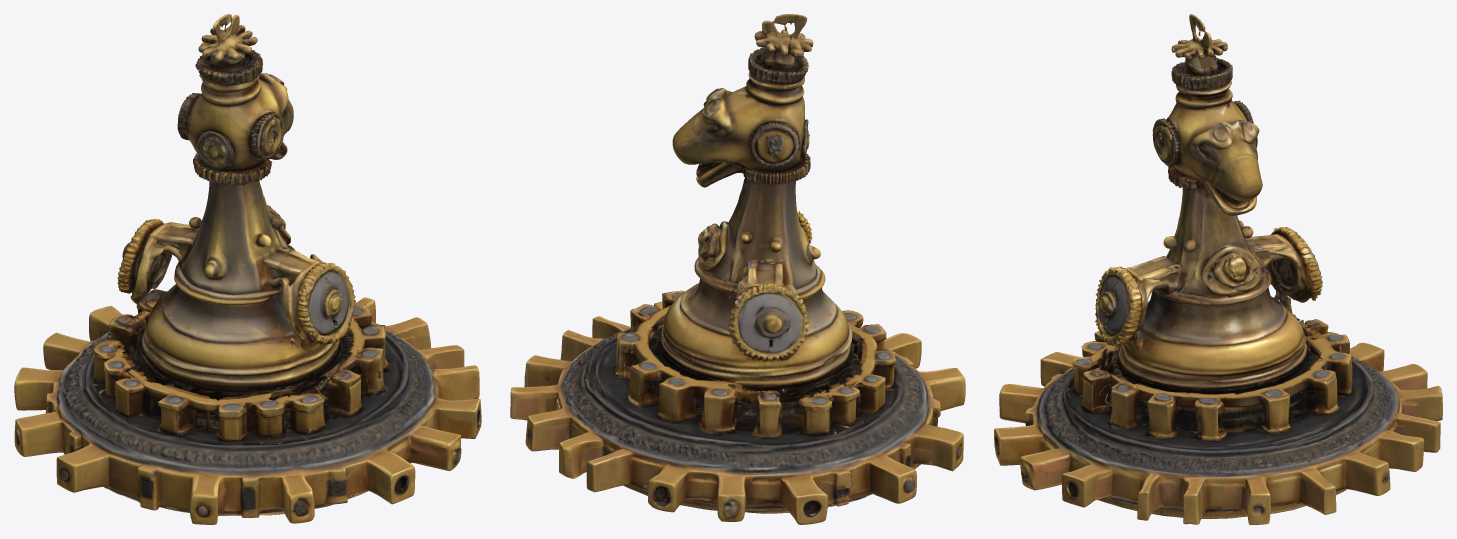
File: bishop.glb
3 views of the same model, side by side, from view 1: azimuth 30°, elevation 25°; view 2: azimuth 150°, elevation 25°; view 3: azimuth 270°, elevation 25° (orthographic). The views are drawn at different scales.
Parts seen in each view (by area): view 1: Object_4, Object_6, Object_5, Object_7; view 2: Object_6, Object_4, Object_5, Object_7; view 3: Object_4, Object_5, Object_6, Object_7.
Part boxes in pixels (box(x1,y1,x2,y2)): Object_4: box(21, 28, 480, 524); Object_6: box(14, 14, 480, 523); Object_5: box(14, 15, 481, 523); Object_7: box(15, 16, 481, 524); Object_6: box(511, 14, 965, 521); Object_4: box(524, 30, 965, 524); Object_5: box(510, 20, 963, 514); Object_7: box(510, 21, 962, 521); Object_4: box(994, 37, 1442, 524); Object_5: box(994, 21, 1441, 517); Object_6: box(994, 14, 1427, 524); Object_7: box(994, 17, 1442, 523).
Bounding box in the file's own units: 1.8 × 2 × 1.82.
1 material, 1 textured.
